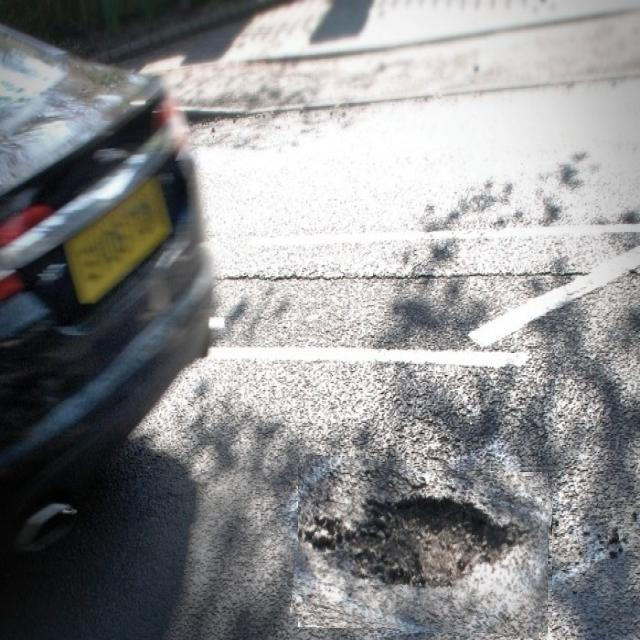Pothole: (294, 461, 552, 633)
